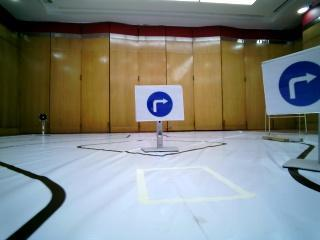right: (136, 86, 183, 118)
